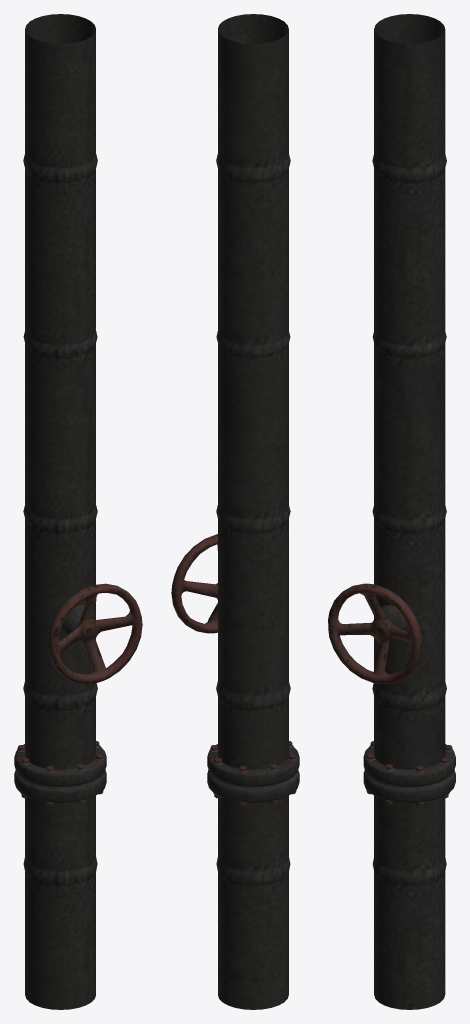
Rendered from pipe_2.obj.
3 renders of one model, left to right at view 1: azimuth 30°, elevation 25°; view 2: azimuth 210°, elevation 25°; view 3: azimuth 330°, elevation 25°, orthographic.
Visible parts, largest first — view 1: pipe_2, valve_1; view 2: pipe_2, valve_1; view 3: pipe_2, valve_1.
Part boxes in pixels (x1=…): pipe_2: x1=14, y1=14, x2=106, y2=1009; valve_1: x1=48, y1=583, x2=142, y2=683; pipe_2: x1=207, y1=14, x2=299, y2=1009; valve_1: x1=171, y1=534, x2=217, y2=633; pipe_2: x1=363, y1=14, x2=455, y2=1009; valve_1: x1=328, y1=583, x2=422, y2=683.
Size of the model in its own units: 0.2986 by 3 by 0.34.
